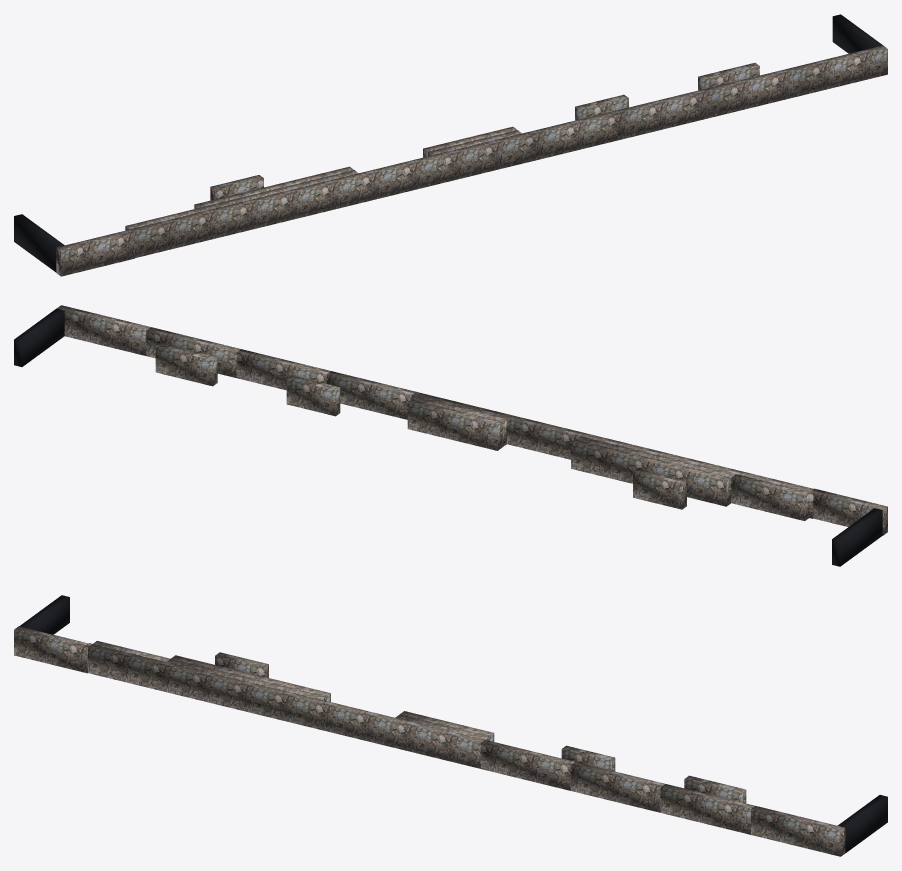
Rendered from nivel2.obj.
3 renders of one model, top to bottom at view 1: azimuth 30°, elevation 25°; view 2: azimuth 150°, elevation 25°; view 3: azimuth 330°, elevation 25°, orthographic.
Visible parts, largest first — view 1: Box005, Box009, Box010, Box008, Box011, Box001, Box012, Box013, Box016, Box003, Box004, Box015 (+1 smaller); view 2: Box003, Box005, Box007, Box011, Box002, Box008, Box009, Box016, Box010, Box001, Box012, Box013 (+4 smaller); view 3: Box005, Box011, Box008, Box009, Box010, Box001, Box013, Box012, Box016, Box003, Box004, Box015 (+2 smaller).
Boxes of the visible parts, <box> form: Box005: <box>126,132,531,257</box>; Box009: <box>613,89,707,140</box>; Box010: <box>703,67,797,118</box>; Box008: <box>527,111,617,162</box>; Box011: <box>793,45,887,96</box>; Box001: <box>56,229,134,276</box>; Box012: <box>14,214,64,272</box>; Box013: <box>832,14,882,53</box>; Box016: <box>698,62,759,90</box>; Box003: <box>194,166,353,208</box>; Box004: <box>199,170,358,211</box>; Box015: <box>575,94,628,120</box>; Box003: <box>571,440,731,506</box>; Box005: <box>412,392,816,518</box>; Box007: <box>407,400,502,450</box>; Box011: <box>57,305,150,355</box>; Box002: <box>731,474,809,520</box>; Box008: <box>326,371,420,419</box>; Box009: <box>236,349,330,390</box>; Box016: <box>155,343,217,386</box>; Box010: <box>146,327,240,377</box>; Box001: <box>810,488,887,535</box>; Box012: <box>832,508,882,566</box>; Box013: <box>14,308,64,366</box>; Box005: <box>85,643,489,768</box>; Box011: <box>751,806,845,856</box>; Box008: <box>480,740,574,790</box>; Box009: <box>570,762,664,812</box>; Box010: <box>660,784,754,834</box>; Box001: <box>14,626,91,673</box>; Box013: <box>837,795,887,853</box>; Box012: <box>19,595,69,634</box>; Box016: <box>684,775,746,803</box>; Box003: <box>171,655,330,701</box>; Box004: <box>166,659,326,700</box>; Box015: <box>561,745,615,771</box>.
Bounding box in the file's own units: 1010 × 30 × 101.
Materials: 2 (1 with a texture image).
